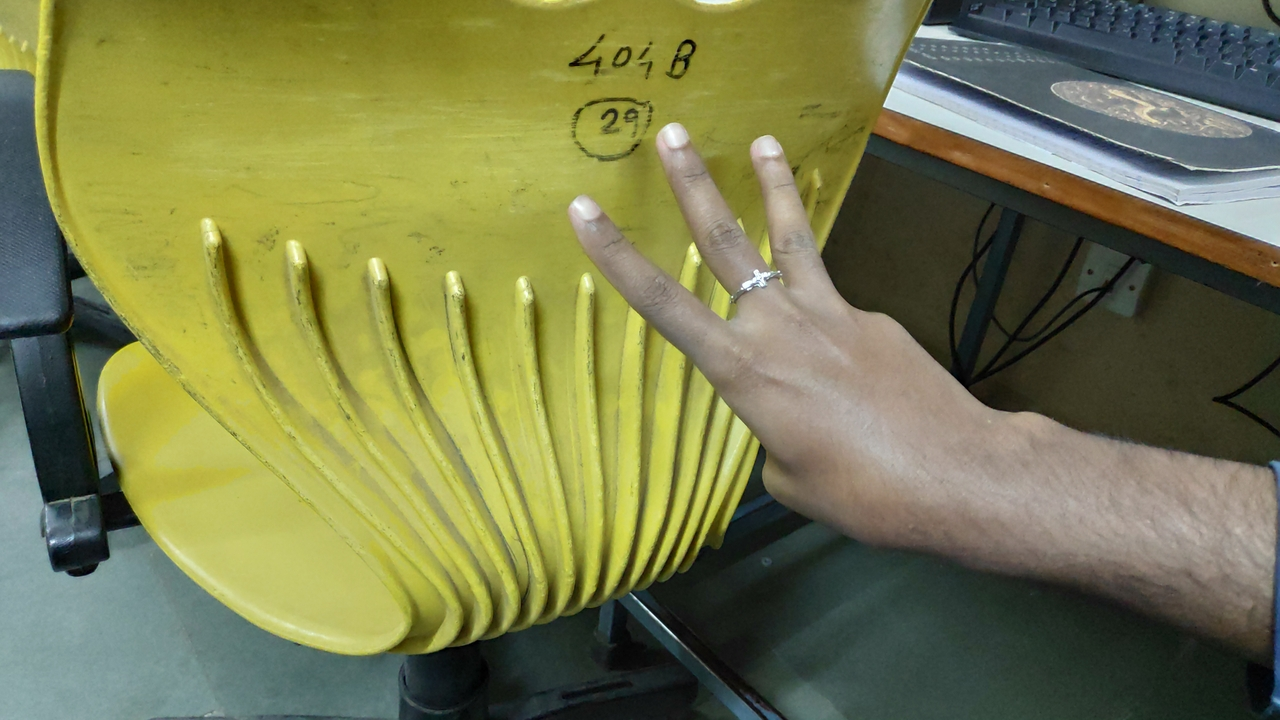fingertip: (558, 180, 616, 238), (742, 126, 798, 176), (652, 114, 702, 164)
